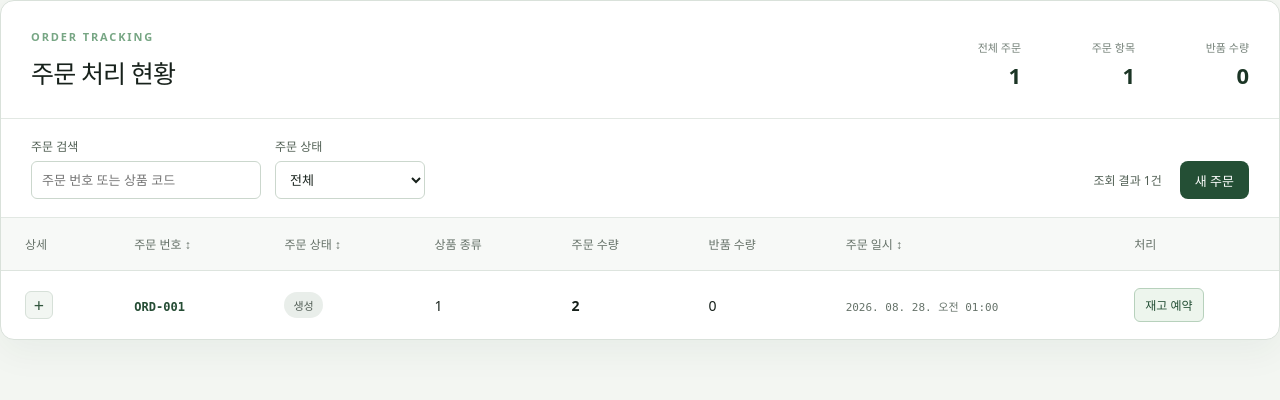
Test: OrderPage › 생성 주문을 예약하고 목록을 새로 불러온다
Click the button with aria-label "ORD-001 재고 예약".
click(1169, 305)  # box [1134, 288, 1204, 322]
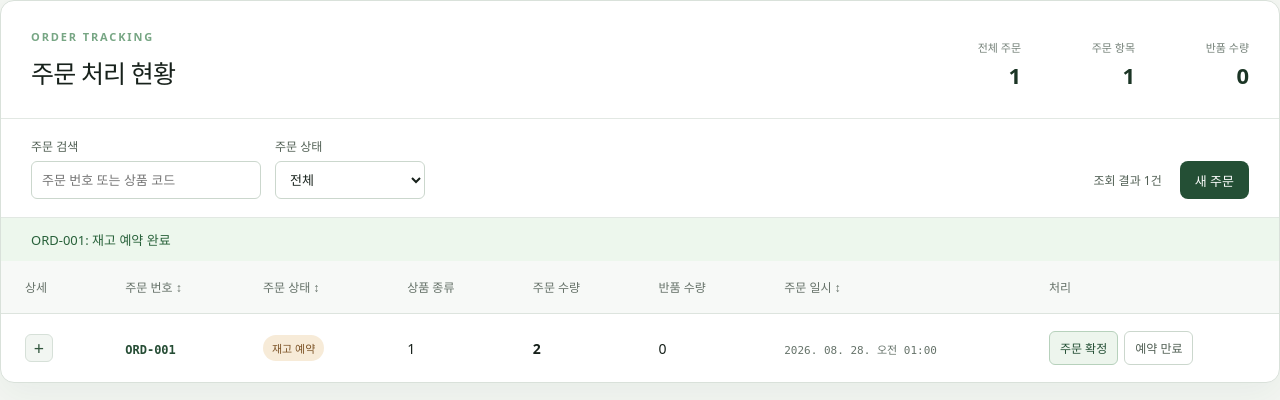
Expected: the button with aria-label "ORD-001 주문 확정" is shown
Click the button with aria-label "ORD-001 주문 확정".
click(1084, 348)  # box [1049, 331, 1118, 365]
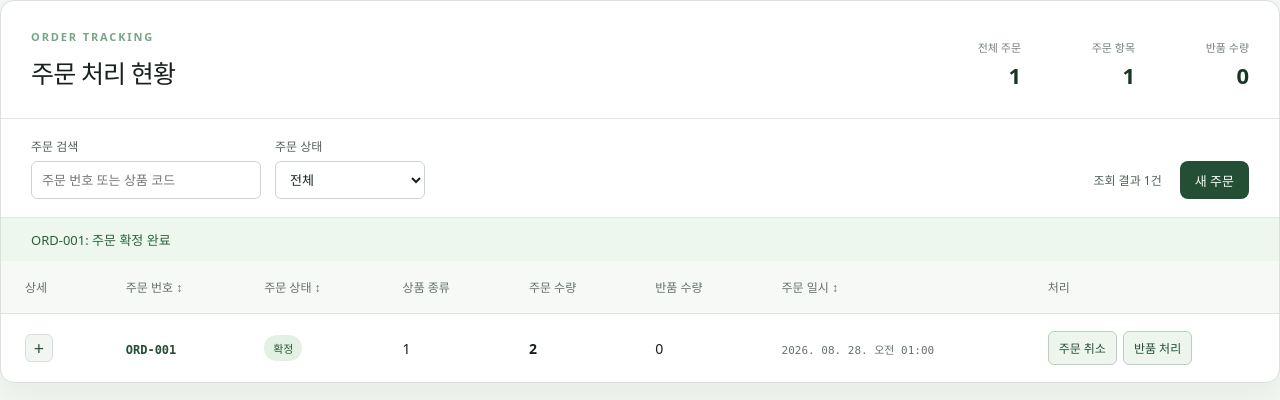
Expected: the text "ORD-001: 주문 확정 완료" is shown, [1, 218, 1279, 261]
Expected: the text "확정" is shown, [264, 335, 302, 361]
